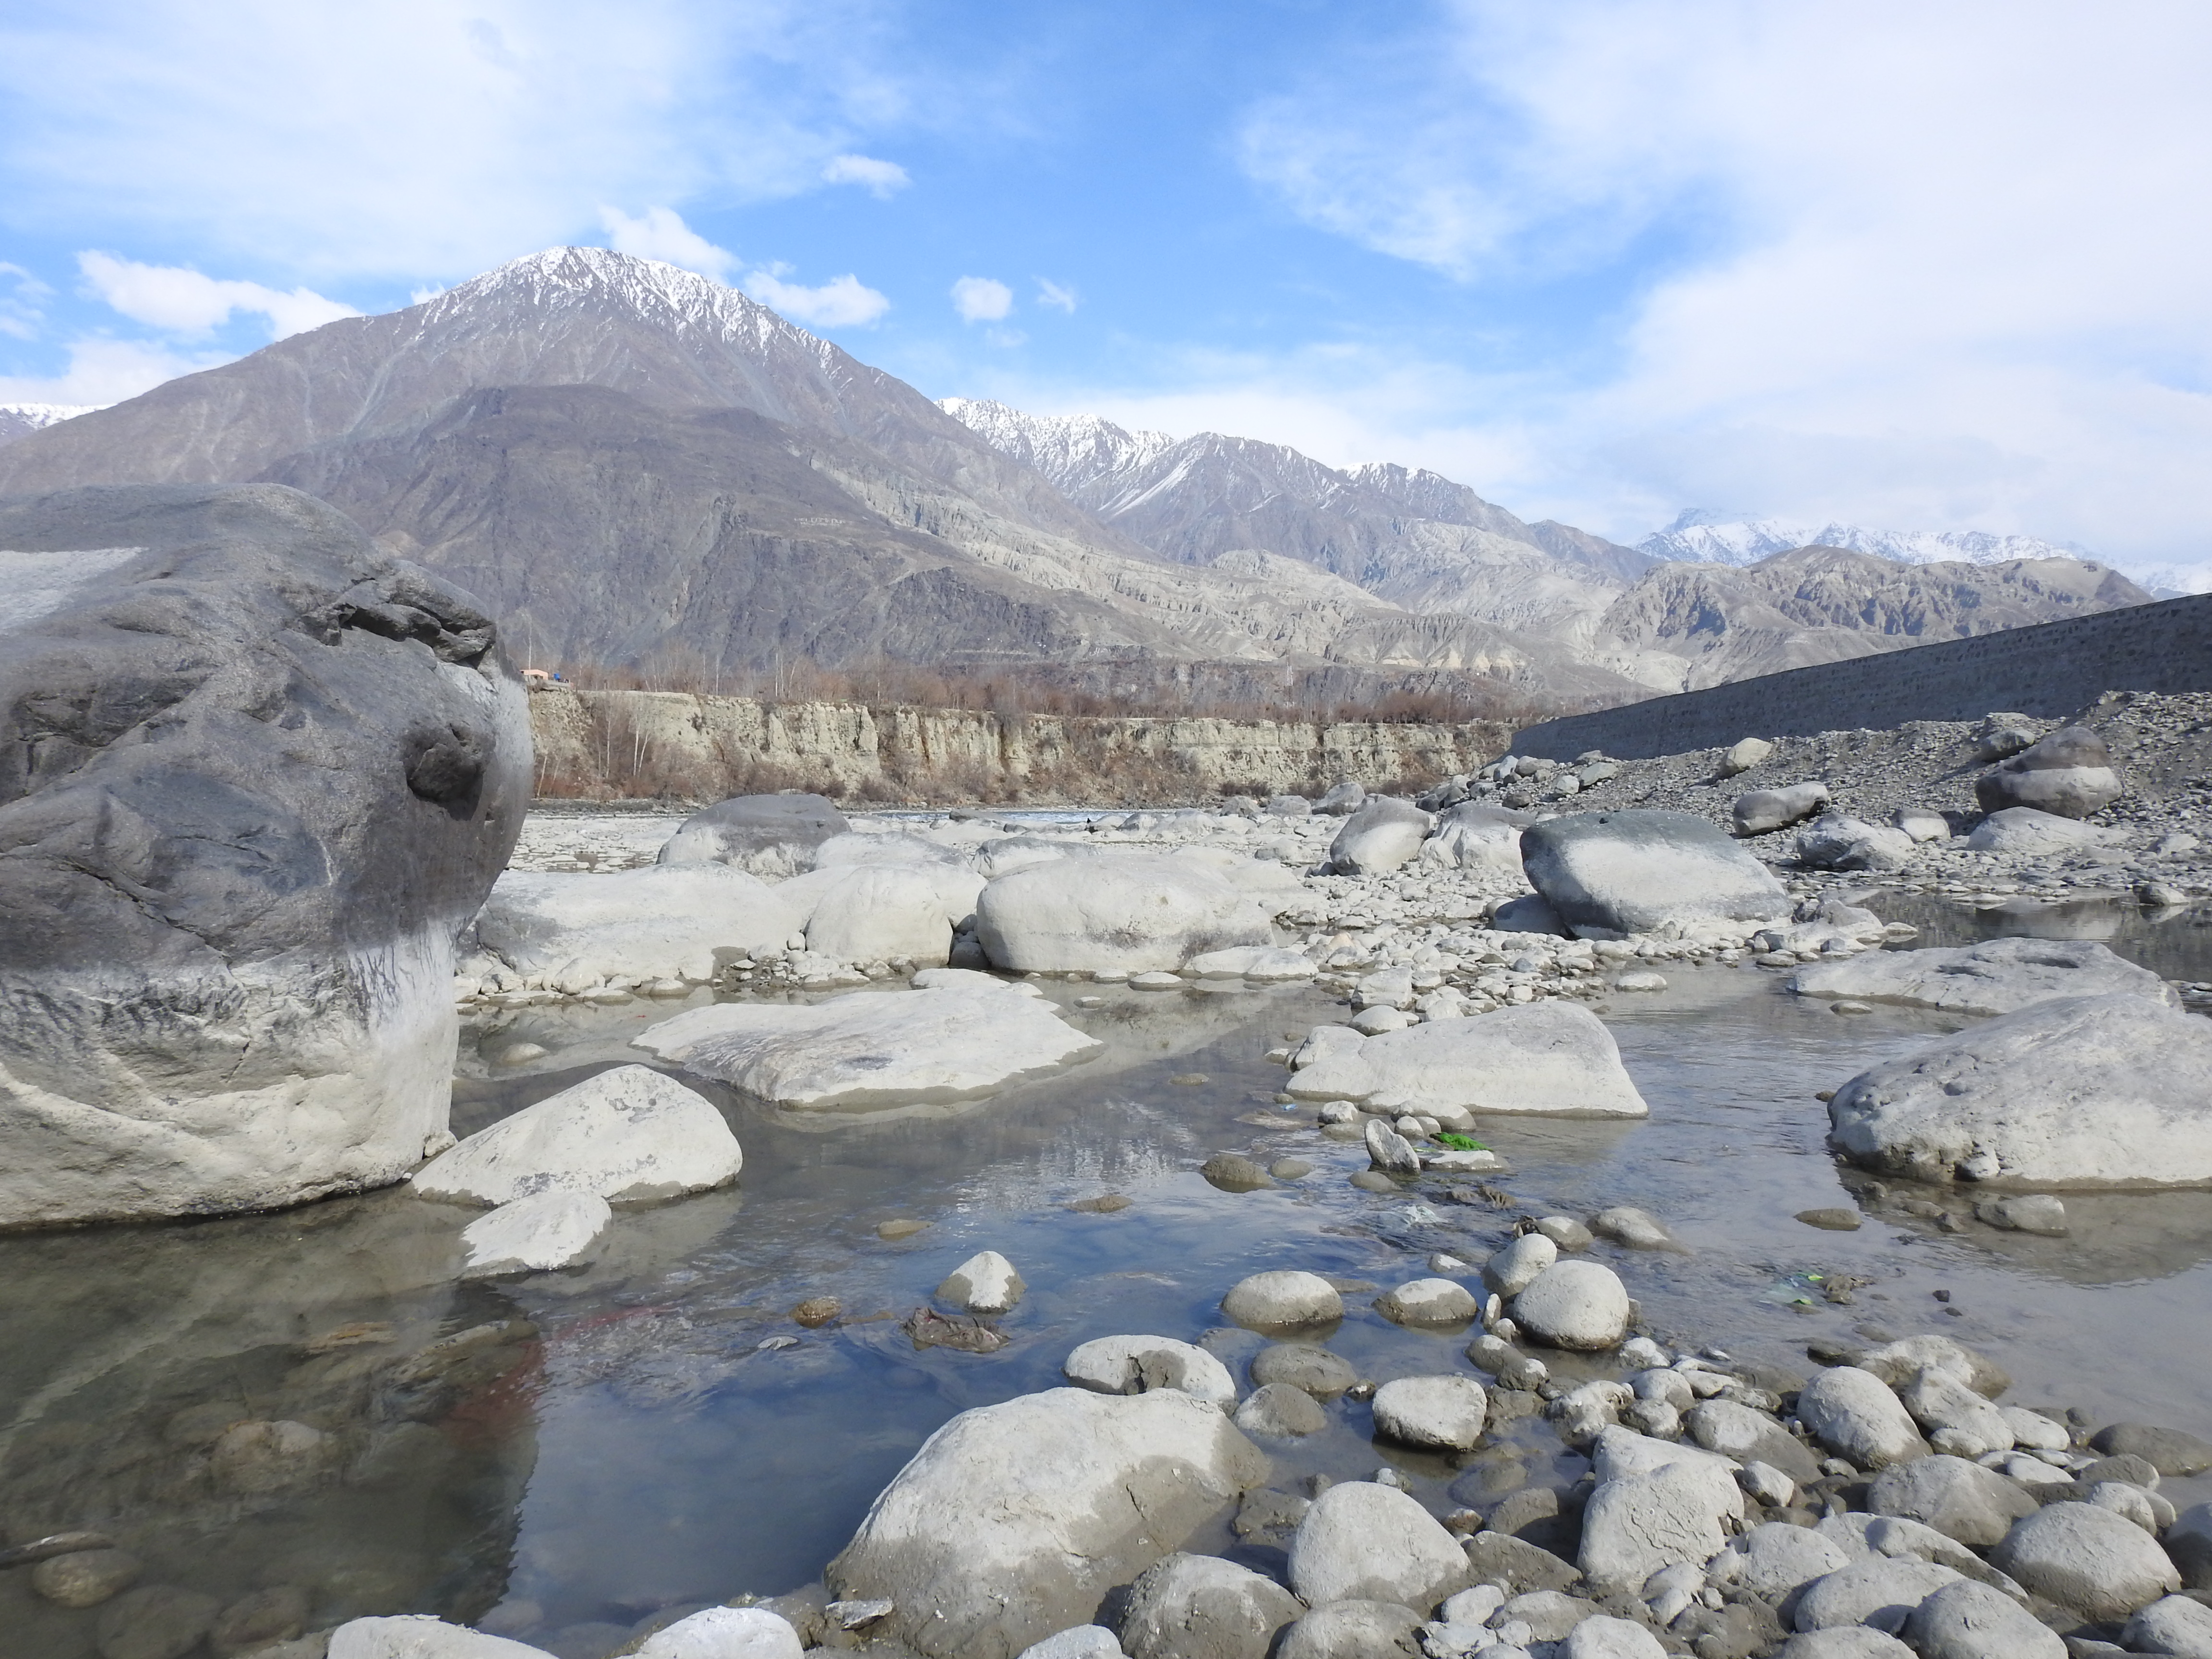Plastic Bottle: (1282, 1101, 1296, 1112), (1413, 1147, 1433, 1152)
